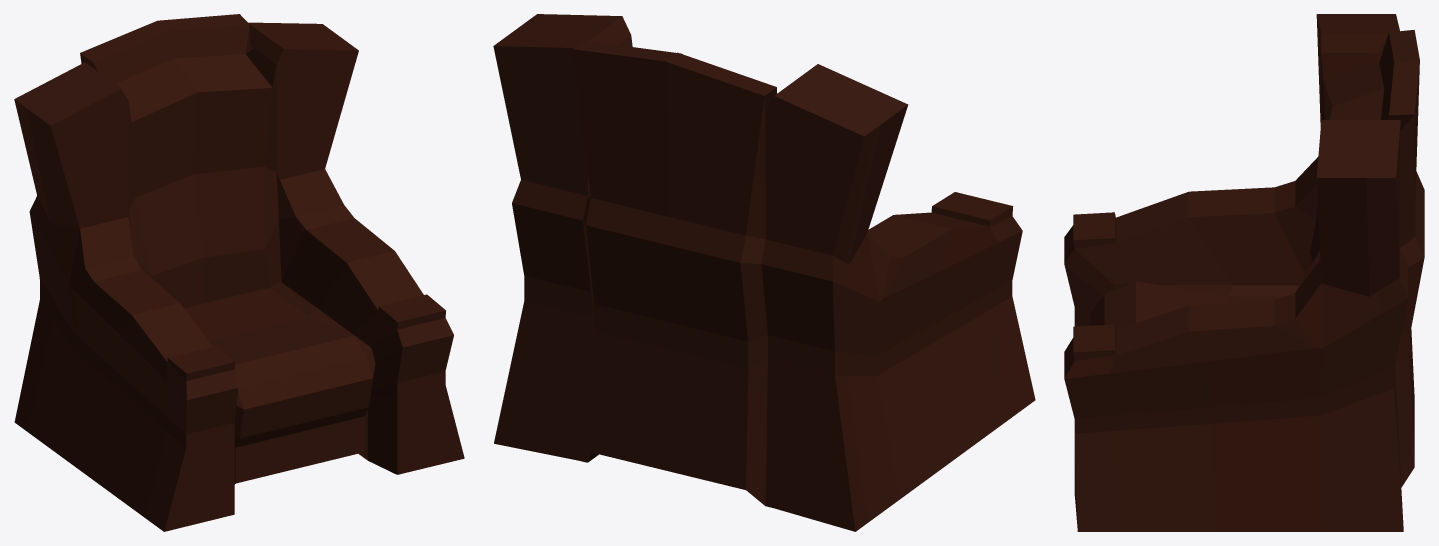
File: chair.fbx
The picture shows the model from 3 angles, left to right: view 1: azimuth 30°, elevation 25°; view 2: azimuth 150°, elevation 25°; view 3: azimuth 270°, elevation 25°; orthographic projection. The views are drawn at different scales.
Parts seen in each view (by area): view 1: Chair; view 2: Chair; view 3: Chair.
Part boxes in pixels (box(x1,y1,x2,y2)): Chair: box(14, 14, 464, 531); Chair: box(493, 14, 1035, 531); Chair: box(1064, 14, 1424, 531).
Size of the model in its own units: 179 by 200 by 167.
